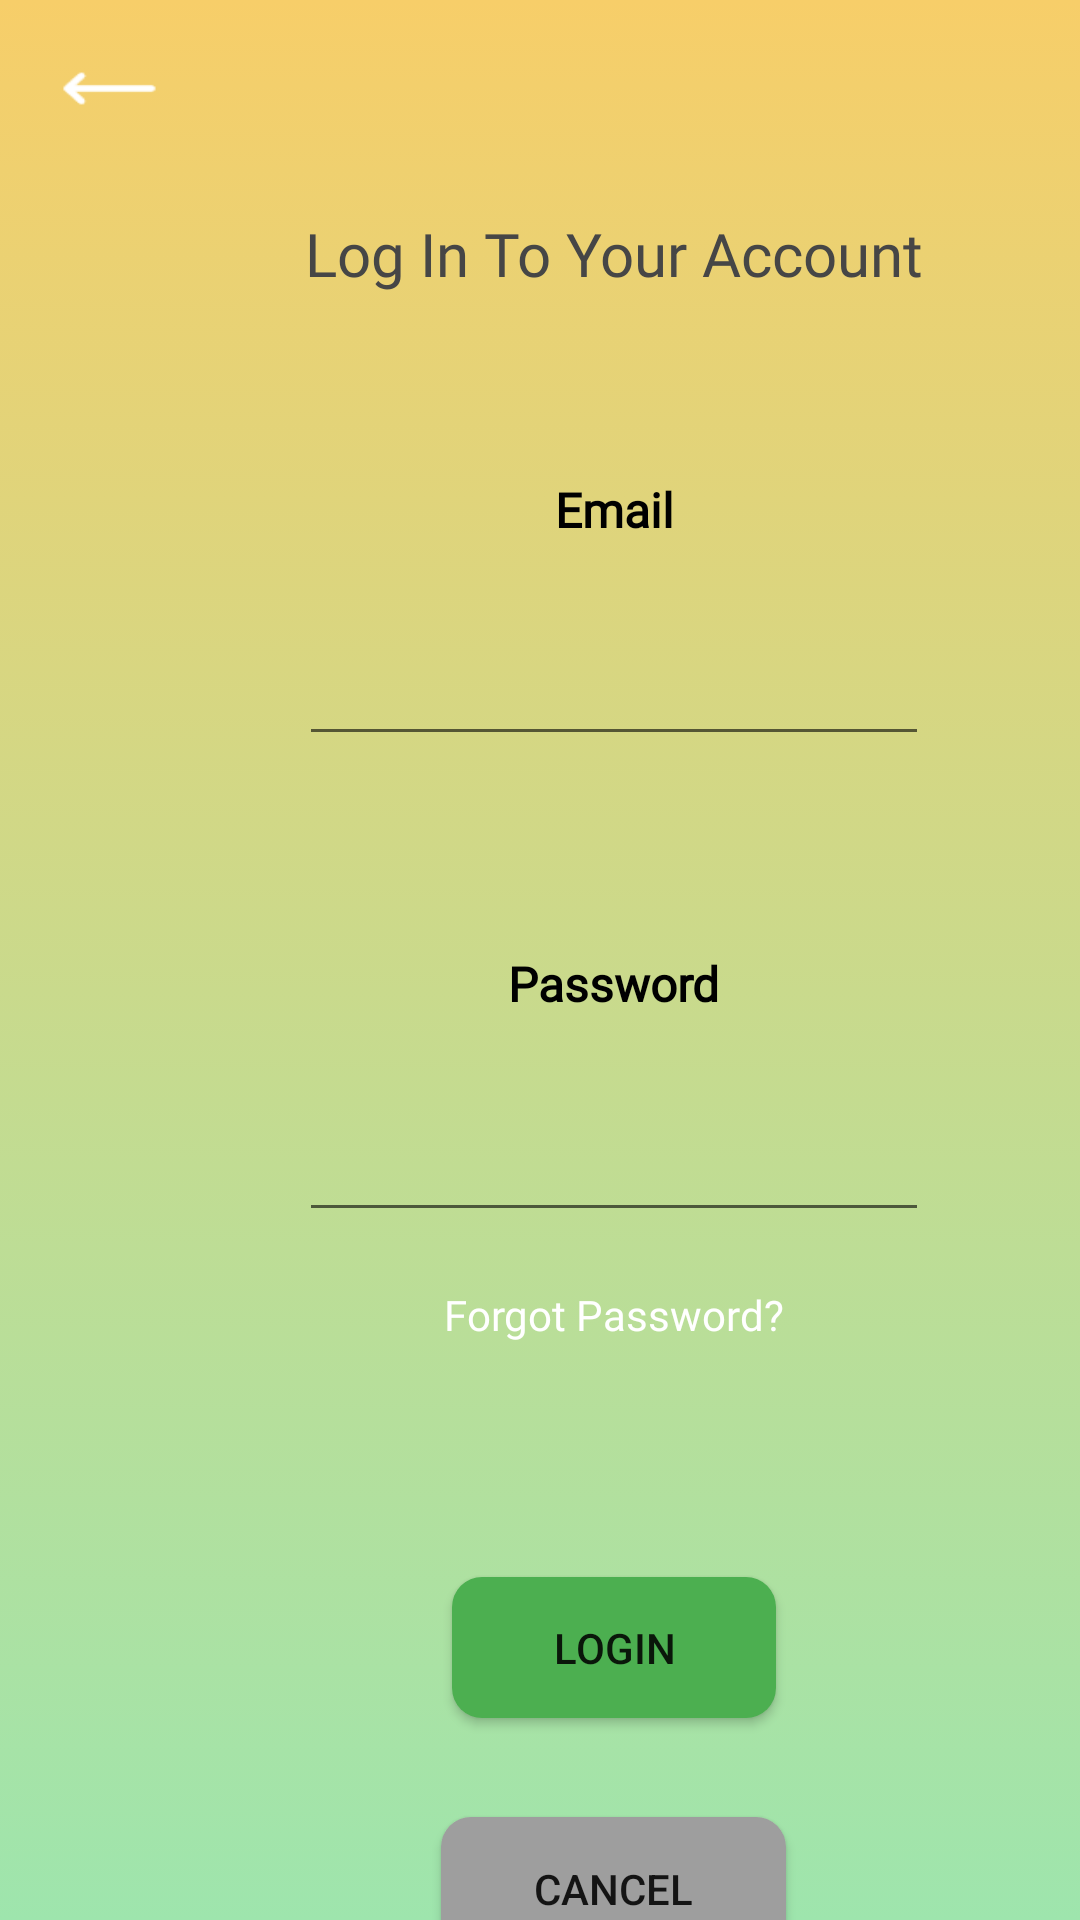

Icon bounding boxes for this 1080 × 1920 phone screenshot, format (x1=x1, y1=y1, x2=x2, y2=y2):
backarrow: (x1=63, y1=72, x2=156, y2=105)
